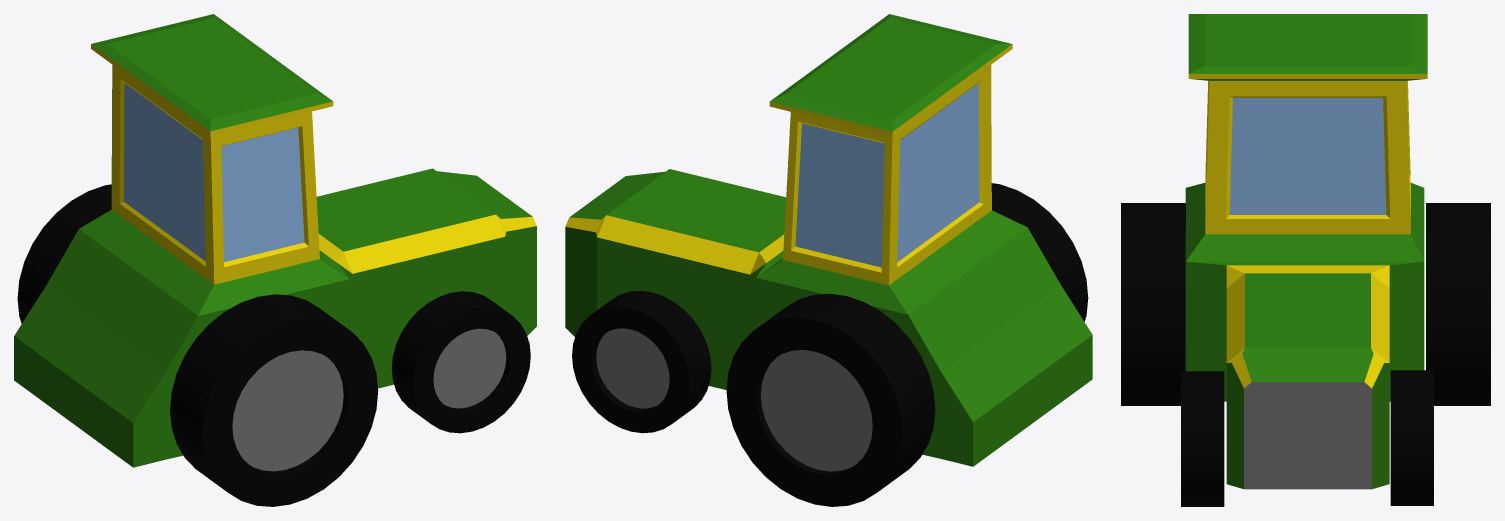
The model's file is tractor.fbx.
The picture shows the model from 3 angles, left to right: view 1: azimuth 30°, elevation 25°; view 2: azimuth 150°, elevation 25°; view 3: azimuth 270°, elevation 25°; orthographic projection.
Visible parts, largest first — view 1: Cube; view 2: Cube; view 3: Cube.
Part boxes in pixels (<box>): Cube: <box>14,14,536,506</box>; Cube: <box>565,14,1092,506</box>; Cube: <box>1121,14,1490,506</box>.
Bounding box in the file's own units: 1473 × 1186 × 1090.
